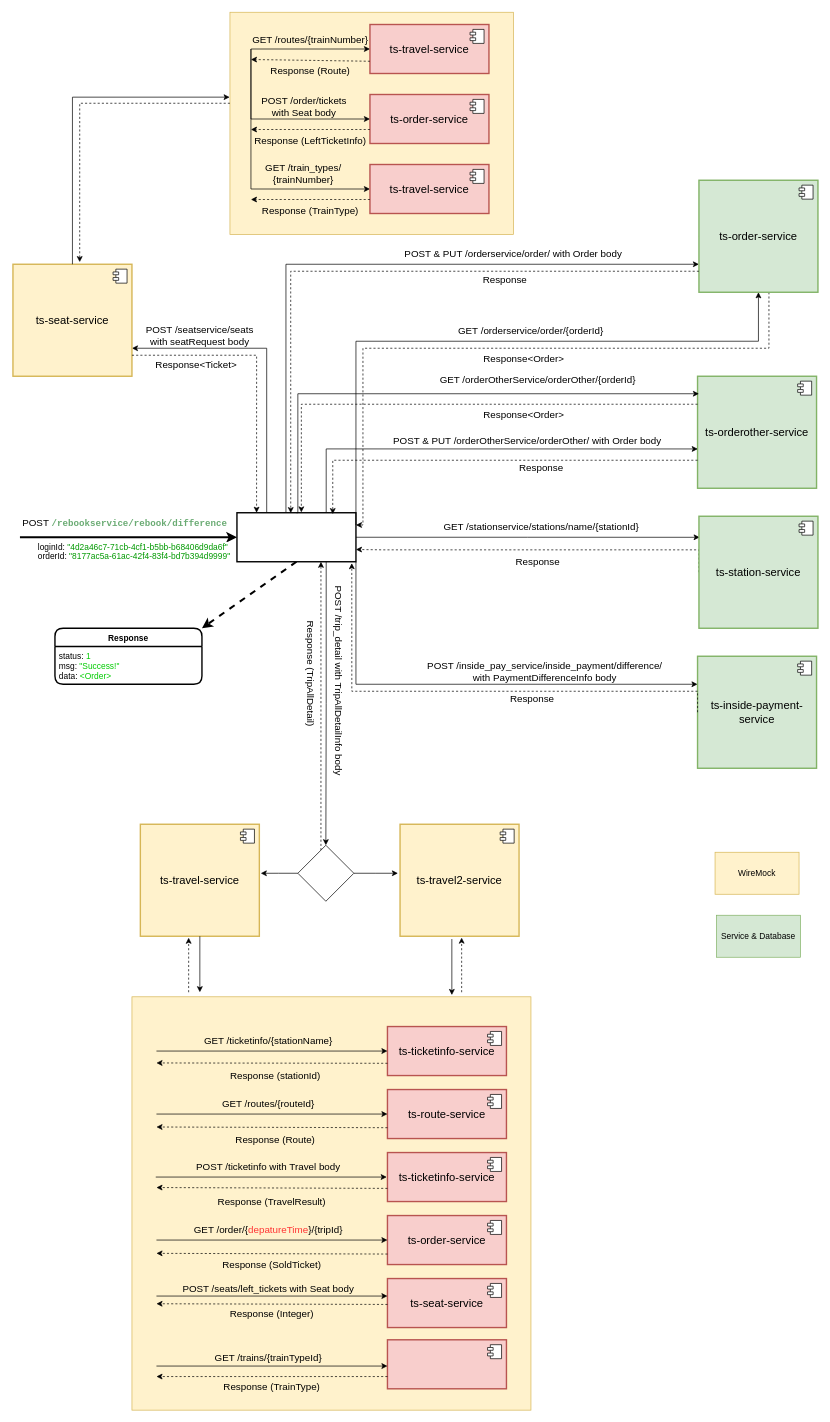
Some shapes in this 830 by 1422 pixel diagram are drawn without their labels. The centre of each missing label's shape, as x and y in pixels:
ts-rebook-service: point (296, 537)
ts-train- service: point (446, 1364)
